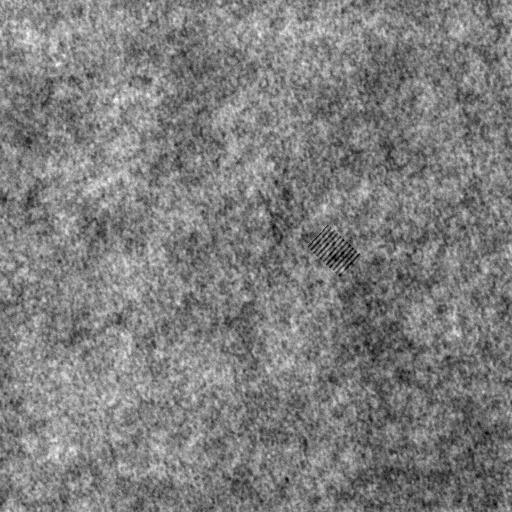DefectTypeB: (308, 223, 361, 276)
